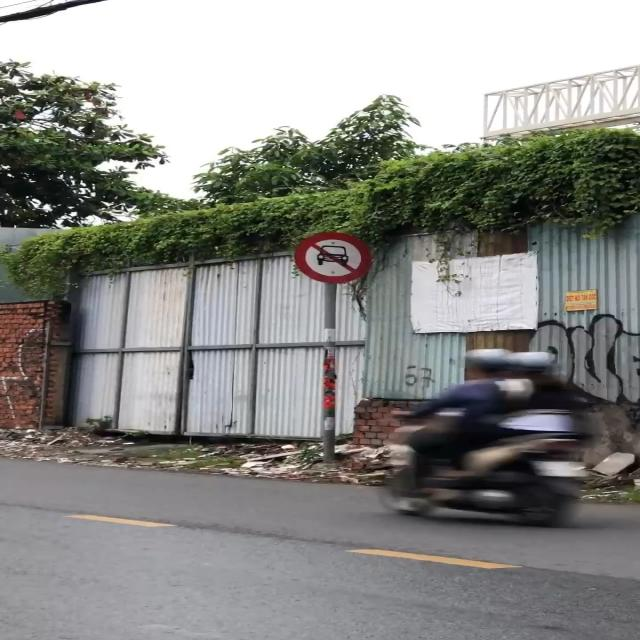Bien bao cam xe oto: (289, 230, 383, 288)
